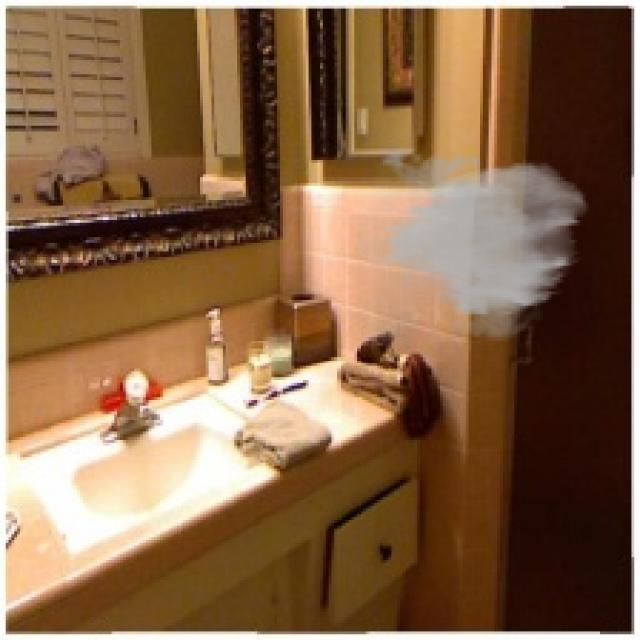Smoke: (357, 140, 592, 346)
